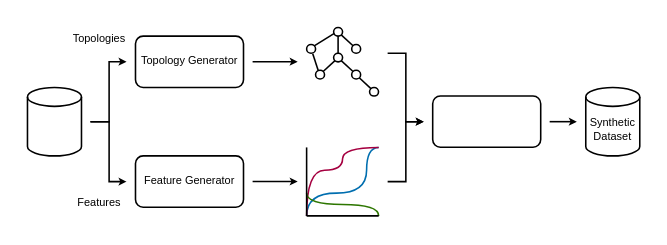
This 667x245 diagram has some shape labels left out. Here are the shapes that lost their labels. From the top down, the centre of each, then its label:
At (53,121): "Dataset".
At (486,120): "Topology/Feature Aligner".
